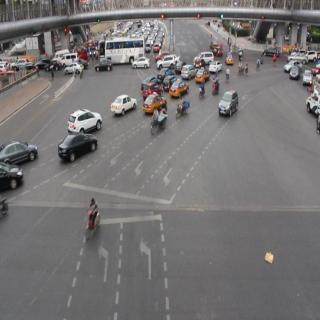BigCar: (100, 36, 146, 61)
Car: (59, 134, 98, 160), (0, 138, 37, 164), (68, 107, 102, 134), (218, 88, 238, 120), (110, 93, 136, 116), (144, 93, 166, 113), (170, 77, 189, 96), (262, 43, 281, 60), (156, 54, 177, 69), (66, 60, 84, 76), (195, 66, 209, 84), (94, 58, 113, 71), (210, 58, 223, 74), (132, 57, 149, 69), (210, 41, 223, 56), (302, 68, 312, 85), (289, 65, 299, 79), (226, 52, 235, 66), (147, 34, 147, 40)
